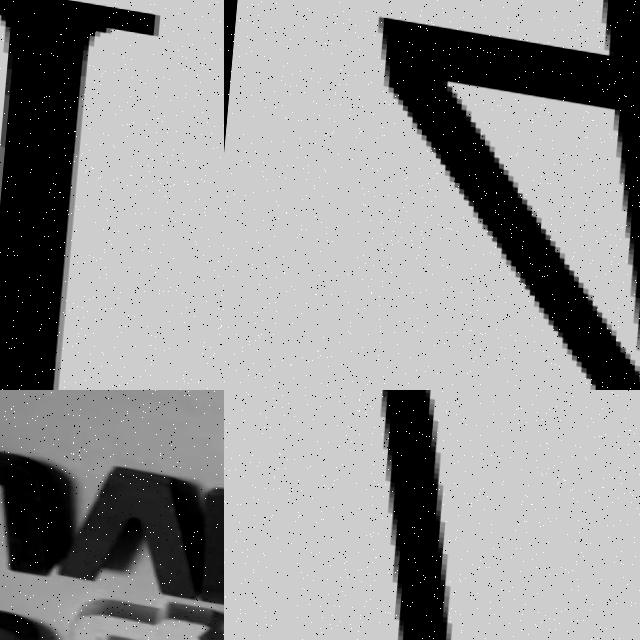J: (267, 390, 548, 640)
Q: (66, 583, 216, 640)
U: (0, 431, 57, 577)
V: (63, 454, 203, 597)
